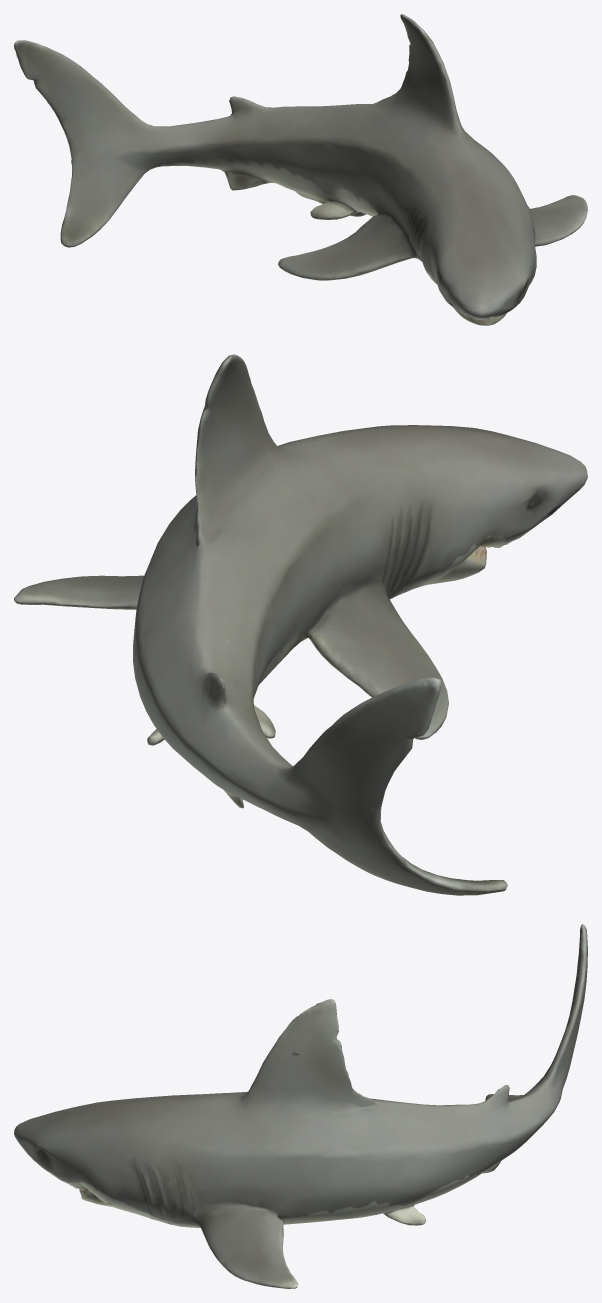
Rendered from Weisshai_Great_White_Shark.glb.
3 renders of one model, top to bottom at view 1: azimuth 30°, elevation 25°; view 2: azimuth 150°, elevation 25°; view 3: azimuth 270°, elevation 25°, orthographic. The views are drawn at different scales.
Visible parts, largest first — view 1: Weisshai_Great_White_Shark; view 2: Weisshai_Great_White_Shark; view 3: Weisshai_Great_White_Shark.
Boxes of the visible parts, x1=… form: Weisshai_Great_White_Shark: x1=14, y1=14, x2=587, y2=325; Weisshai_Great_White_Shark: x1=14, y1=354, x2=587, y2=895; Weisshai_Great_White_Shark: x1=14, y1=924, x2=587, y2=1288.
Size of the model in its own units: 0.1437 by 0.0748 by 0.1671.
Materials: 1 (1 with a texture image).
